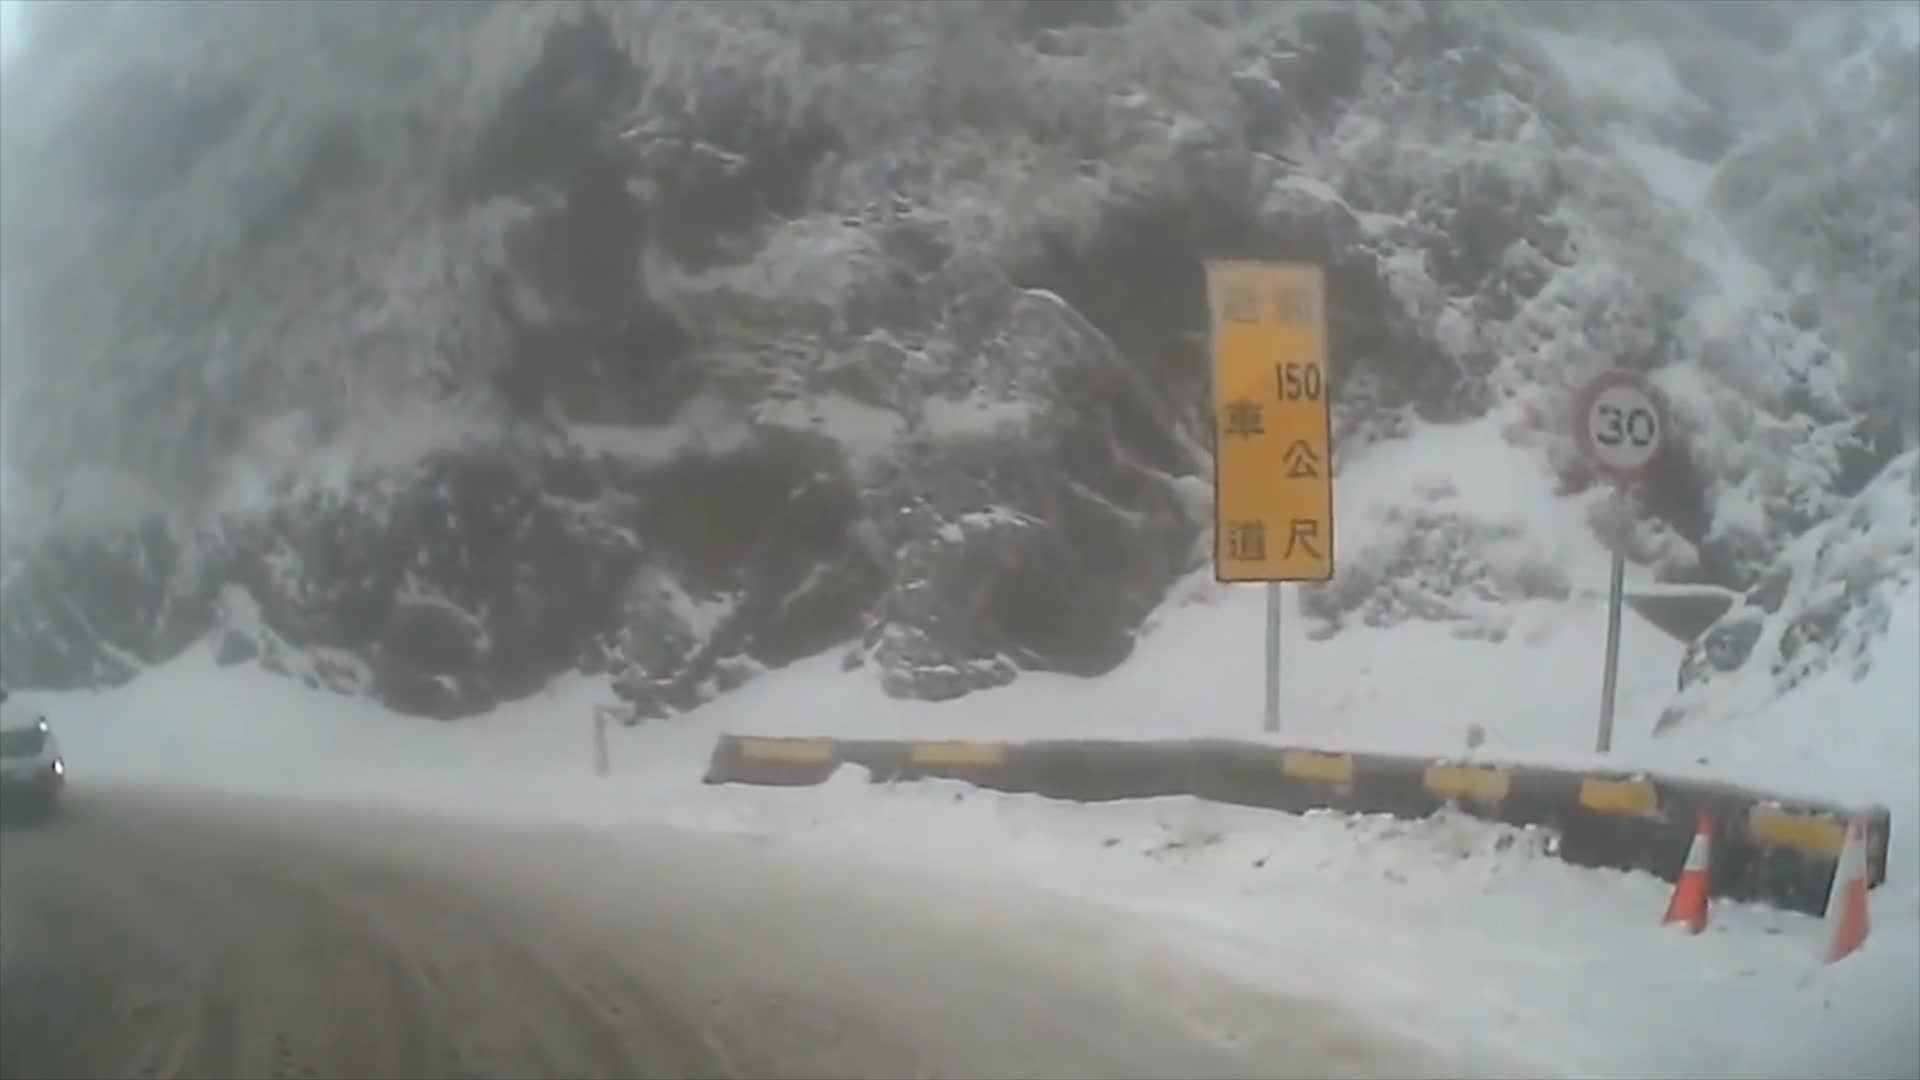vehicle: (0, 683, 61, 818)
